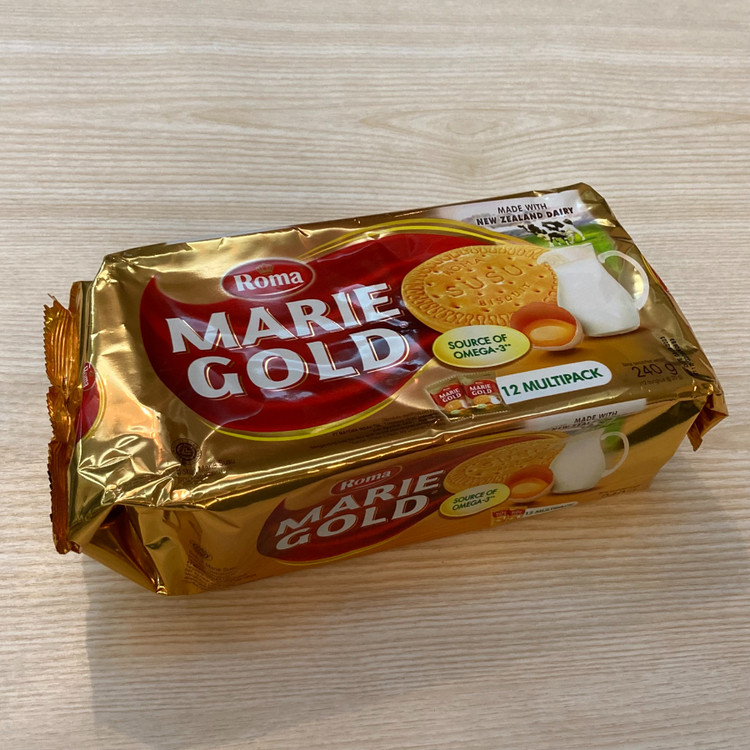Roma Marie Gold (240g): (12, 279, 673, 626), (326, 207, 338, 228)
